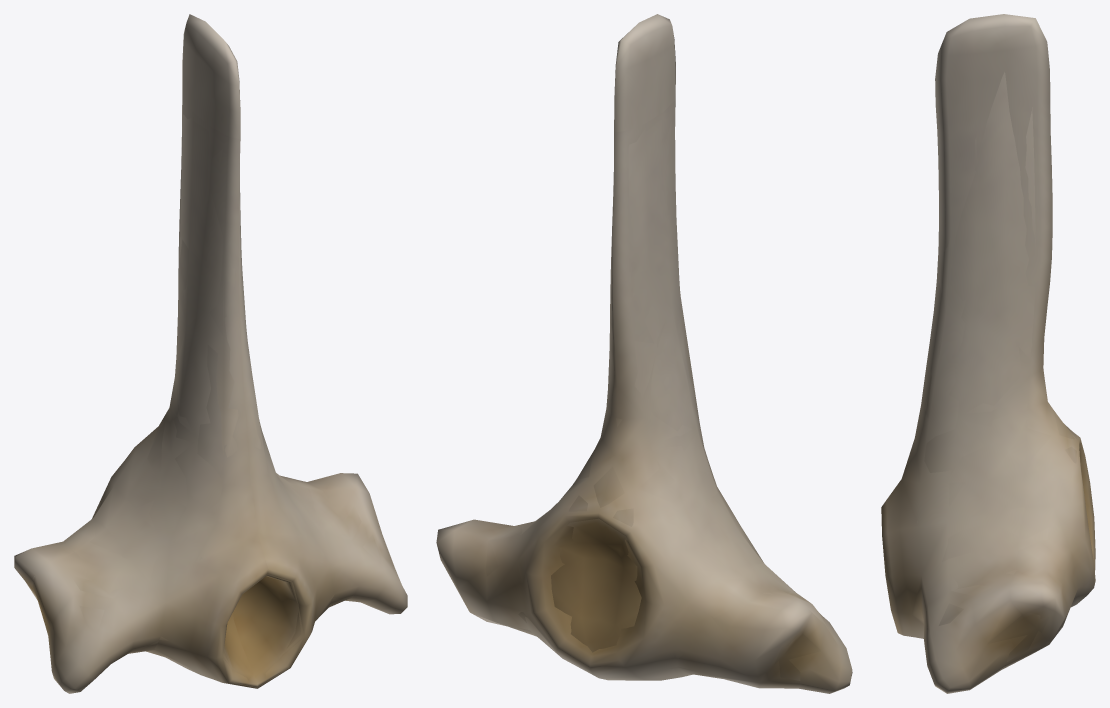
The model's file is vertebrae thoracicae 07.fbx.
3 renders of one model, left to right at view 1: azimuth 30°, elevation 25°; view 2: azimuth 150°, elevation 25°; view 3: azimuth 270°, elevation 25°, orthographic. The views are drawn at different scales.
Parts seen in each view (by area): view 1: vertebrae thoracicae 07, vertebrae thoracicae 07 low; view 2: vertebrae thoracicae 07, vertebrae thoracicae 07 low; view 3: vertebrae thoracicae 07, vertebrae thoracicae 07 low.
Boxes of the visible parts, left/top/right/bottom form: vertebrae thoracicae 07: left=14, top=14, right=407, bottom=693; vertebrae thoracicae 07 low: left=24, top=114, right=380, bottom=687; vertebrae thoracicae 07: left=436, top=14, right=852, bottom=693; vertebrae thoracicae 07 low: left=485, top=120, right=823, bottom=680; vertebrae thoracicae 07: left=881, top=14, right=1095, bottom=693; vertebrae thoracicae 07 low: left=917, top=72, right=1080, bottom=661.
Bounding box in the file's own units: 4.86 × 8.48 × 2.65.
Materials: 1 (1 with a texture image).
